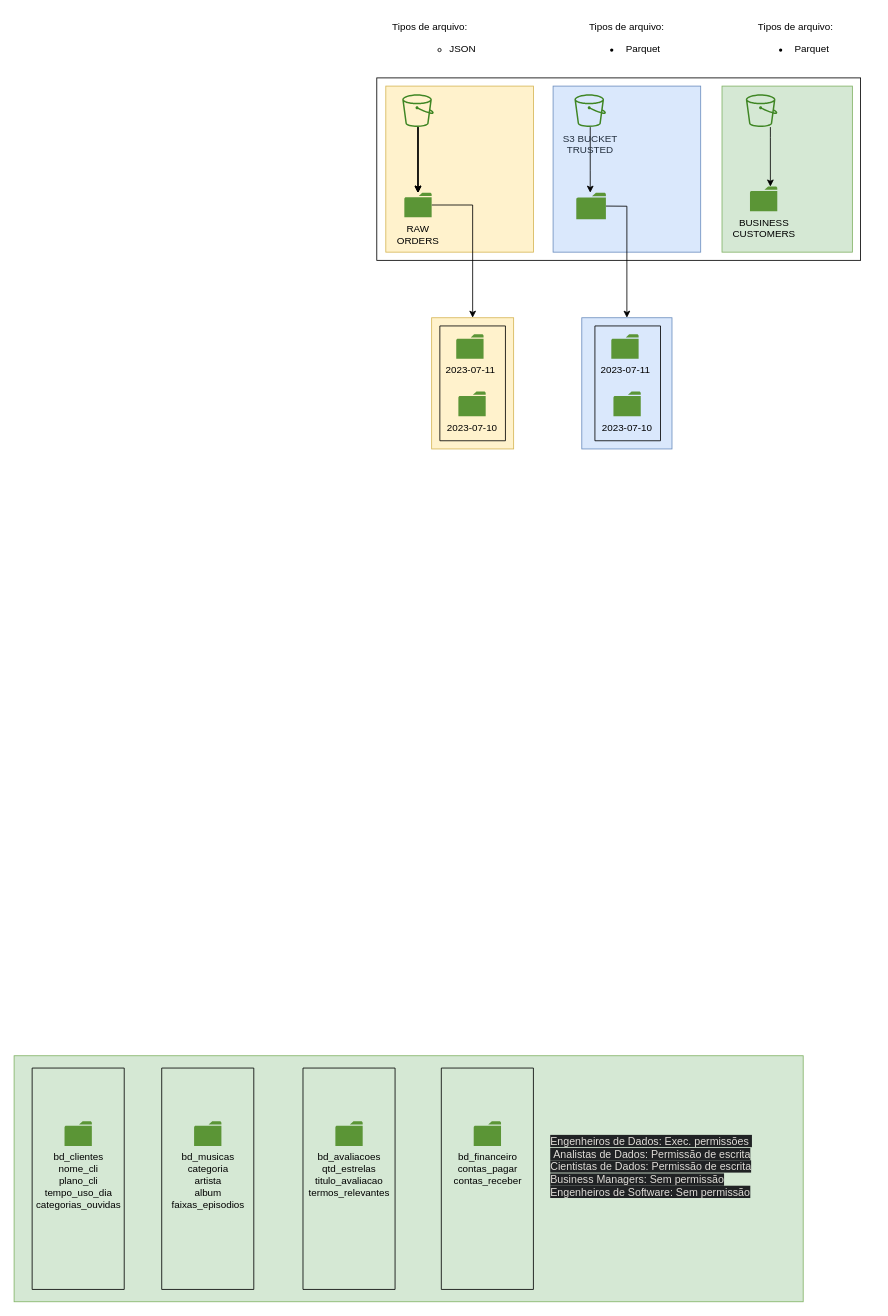
Some shapes in this 888 by 1316 pixel diagram are drawn without their labels. The centre of each missing label's shape, as x and y in pixels:
"S3 BUCKET CURATED" goes at pixel 761 110.
"S3 BUCKET RAW" goes at pixel 417 110.
"TRUSTED ORDERS" goes at pixel 590 205.
